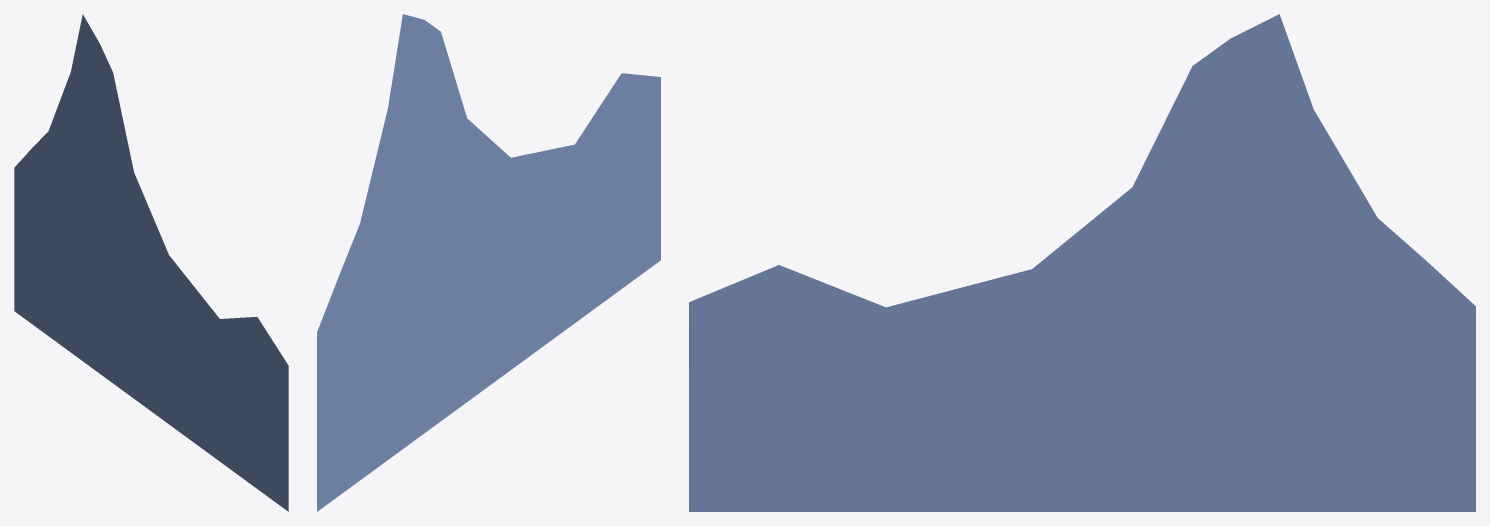
Rendered from Mountain_Flat_1.fbx.
3 views of the same model, side by side, from view 1: azimuth 30°, elevation 25°; view 2: azimuth 150°, elevation 25°; view 3: azimuth 270°, elevation 25° (orthographic). The views are drawn at different scales.
Visible parts, largest first — view 1: Mountain_Flat_1; view 2: Mountain_Flat_1; view 3: Mountain_Flat_1.
Boxes of the visible parts, box(x1,y1,x2,y2) form: Mountain_Flat_1: box(14, 14, 288, 511); Mountain_Flat_1: box(317, 14, 660, 511); Mountain_Flat_1: box(689, 14, 1475, 511).
Size of the model in its own units: 0 by 54.32 by 77.77.
